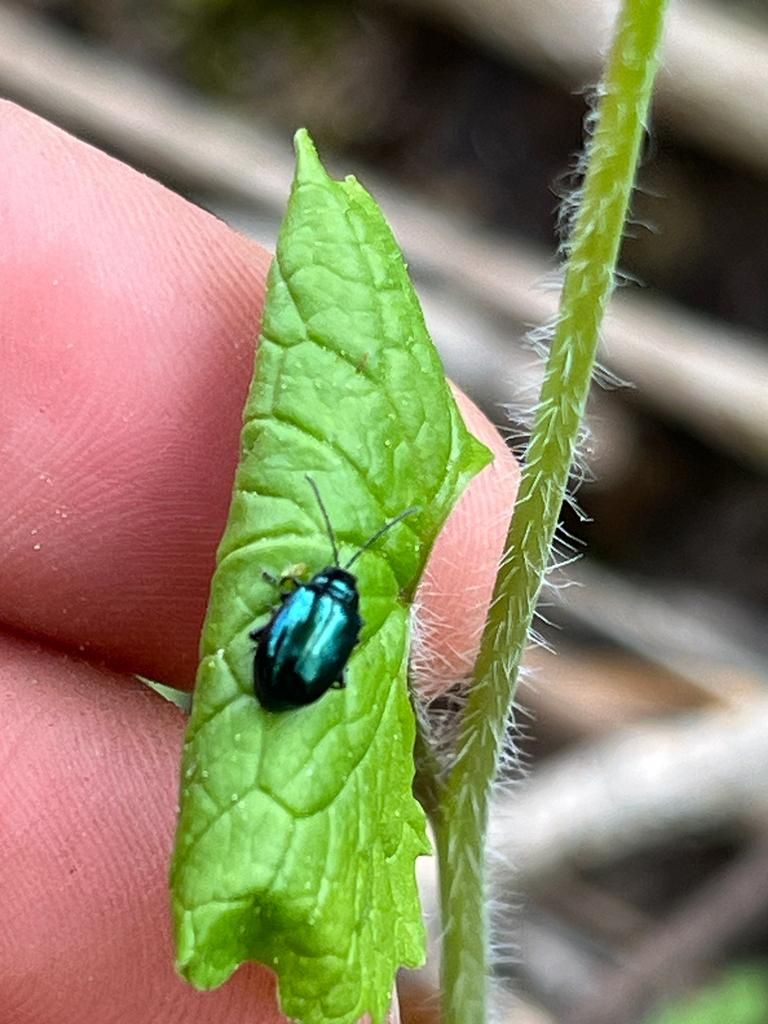flea_beetle: (212, 442, 445, 749)
